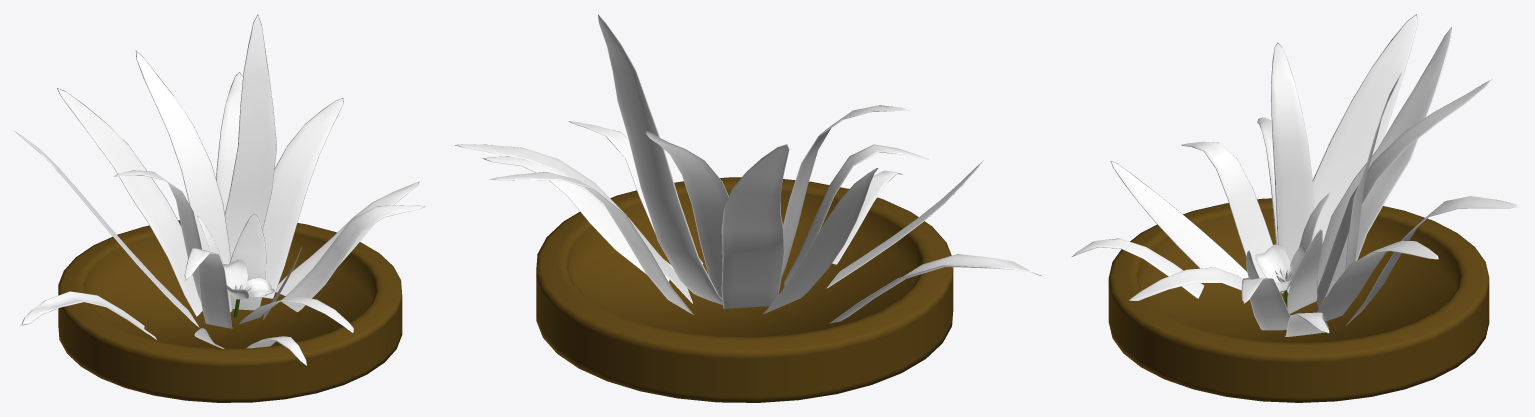
The model's file is StartStatue.fbx.
3 renders of one model, left to right at view 1: azimuth 30°, elevation 25°; view 2: azimuth 150°, elevation 25°; view 3: azimuth 270°, elevation 25°, orthographic. The views are drawn at different scales.
Visible parts, largest first — view 1: Sphere.006, Cylinder; view 2: Cylinder, Sphere.006; view 3: Cylinder, Sphere.006.
Part boxes in pixels (x1,y1,x2,y2): Sphere.006: [15, 14, 424, 365]; Cylinder: [58, 220, 402, 402]; Cylinder: [536, 177, 953, 402]; Sphere.006: [454, 14, 1041, 323]; Cylinder: [1108, 198, 1489, 402]; Sphere.006: [1072, 14, 1520, 336].
Bounding box in the file's own units: 1809 × 1149 × 1482.
